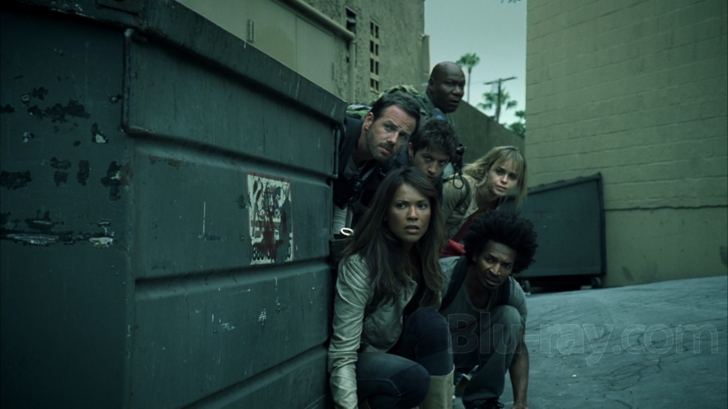human: (326, 166, 458, 407)
